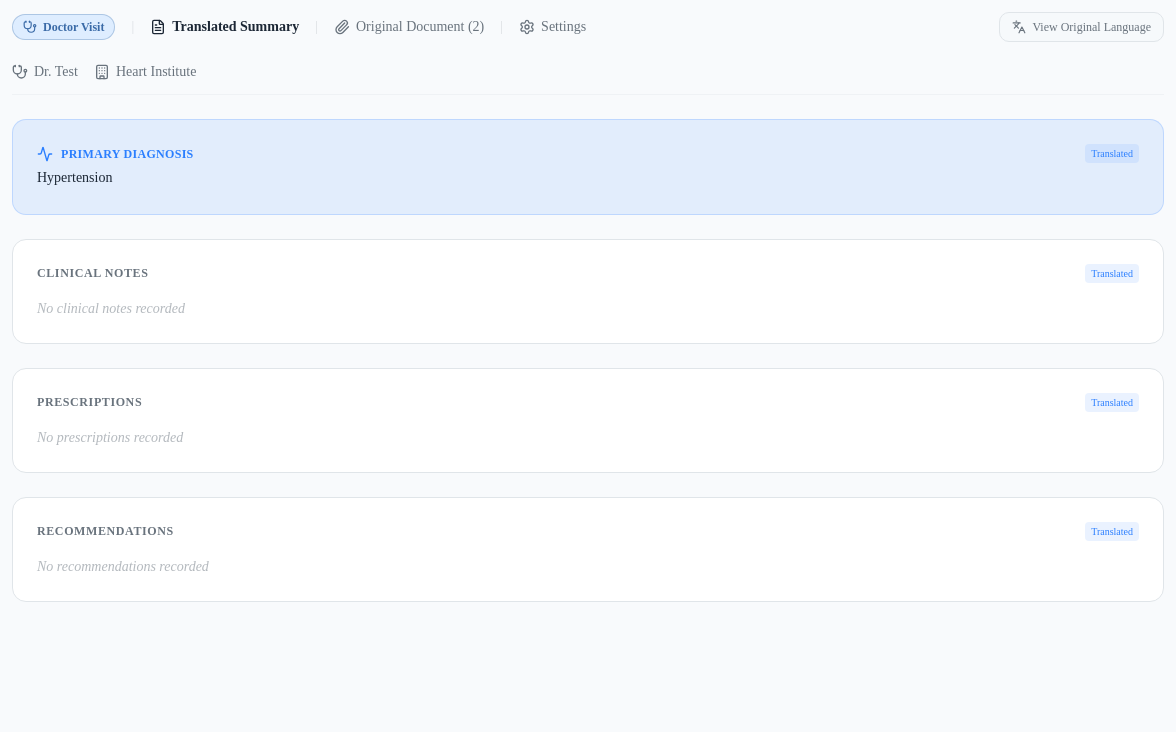
Test: DoctorVisitDetails › renders attachment chips with inline size and type/size tooltip
This screenshot has width=1176, height=732.
Click the button "Original Document (2)".
click(409, 27)  # box 334,17 -> 484,37
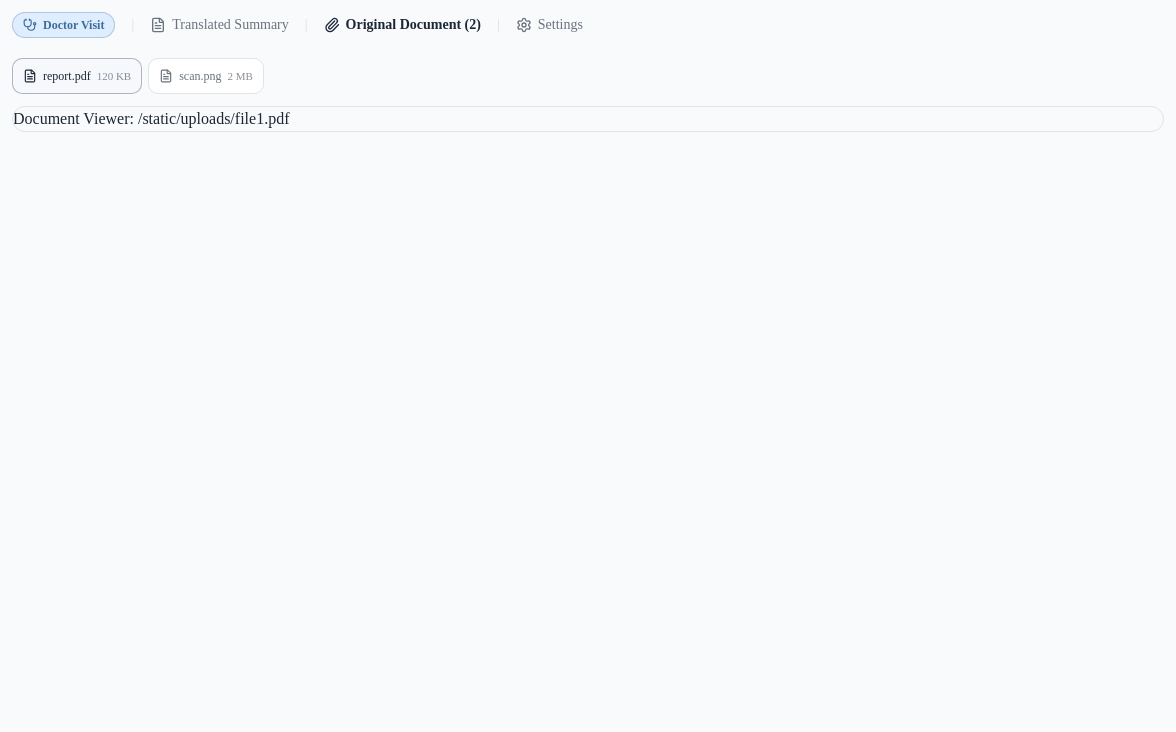
Check: the text "report.pdf" is shown, box 43,68 -> 91,84
Check: the text "scan.png" is shown, box 179,68 -> 222,84
Check: the text "120 KB" is shown, box 97,69 -> 131,83
